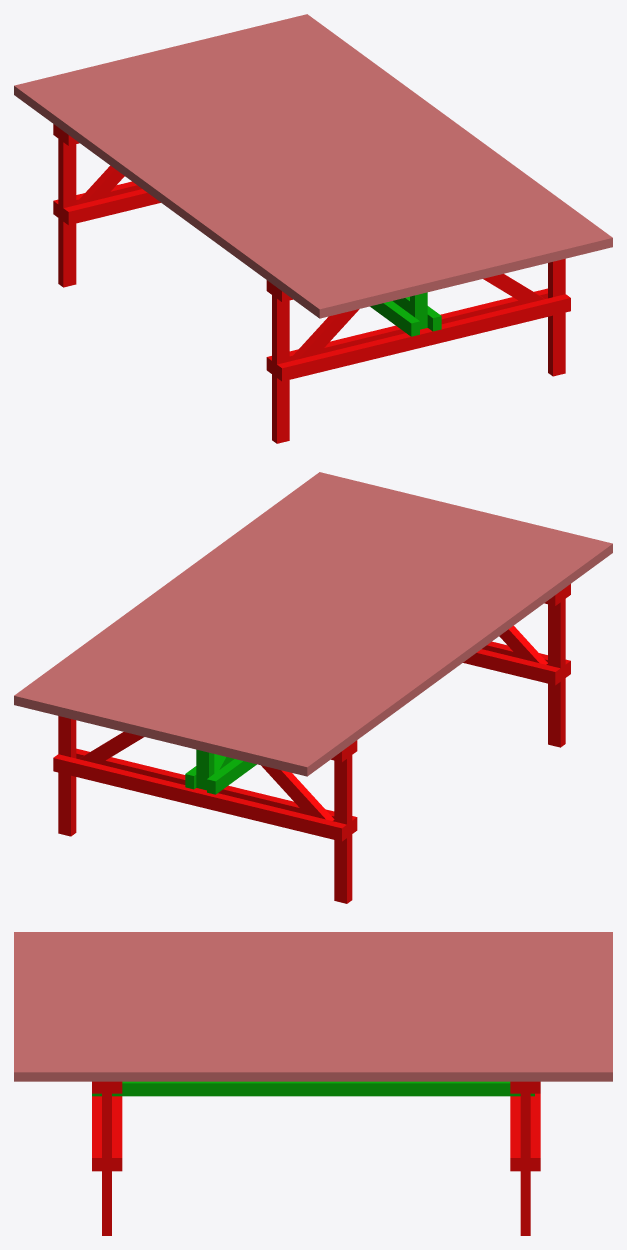
File: result.glb
3 renders of one model, top to bottom at view 1: azimuth 30°, elevation 25°; view 2: azimuth 150°, elevation 25°; view 3: azimuth 270°, elevation 25°, orthographic. The views are drawn at different scales.
Parts seen in each view (by area): view 1: e8572750-5359-4779-a6d4-4a2de2184da2__Box, e2a339a2-f7a9-4d18-b5e1-a1c5d5b01a48__sideH, af6be2a3-6324-4fde-8211-20366a780830__undefined, 2e245fd0-a997-461d-bca7-1c6d890a7b8d__undefined, 4b75fe8f-fd2e-448c-80d8-530bb464fafe__undefined, 0f40e9db-9a0b-4b9f-9652-3429a954e3eb__undefined, 156da3b0-69f3-4ade-8306-8481c7717daf__undefined, a3cc780f-08b8-44d6-9d41-ce897aa38495__undefined, c8f55597-56f8-41e4-8323-b49ed840e3b8__undefined, d8fdd775-603a-4434-b9a7-d123a66e6464__undefined, 4782e9e3-0d08-4813-8aae-0685b6800dc1__undefined, 8936871f-94f4-4f58-a045-1c38f46c4834__undefined (+21 smaller); view 2: e8572750-5359-4779-a6d4-4a2de2184da2__Box, 54b35119-857b-4545-9c44-c68cfb71abc9__undefined, a3cc780f-08b8-44d6-9d41-ce897aa38495__undefined, d8fdd775-603a-4434-b9a7-d123a66e6464__undefined, 8936871f-94f4-4f58-a045-1c38f46c4834__undefined, 4782e9e3-0d08-4813-8aae-0685b6800dc1__undefined, 156da3b0-69f3-4ade-8306-8481c7717daf__undefined, af6be2a3-6324-4fde-8211-20366a780830__undefined, c8f55597-56f8-41e4-8323-b49ed840e3b8__undefined, 4b75fe8f-fd2e-448c-80d8-530bb464fafe__undefined, 2e245fd0-a997-461d-bca7-1c6d890a7b8d__undefined, 0f40e9db-9a0b-4b9f-9652-3429a954e3eb__undefined (+22 smaller); view 3: e60f2abb-4d05-4bd3-ad13-3f93e0276fca__undefined, 28073426-a1f3-4554-aad3-1b65907b5ae1__strutH, e8572750-5359-4779-a6d4-4a2de2184da2__Box, c4001a34-9d0a-414c-a576-8d3703145f38__undefined, fa84d8d6-01a6-4eda-92de-9ebdcceb3303__undefined, d94fb868-c83d-4239-b17b-b80c1bc62af2__undefined, 8936871f-94f4-4f58-a045-1c38f46c4834__undefined, 2e245fd0-a997-461d-bca7-1c6d890a7b8d__undefined, b1905d6b-a18b-4f7e-9b68-5981e3d8fe35__undefined, ec696df1-d170-4bd8-80dc-32758e31eda0__undefined, bbbc9186-947e-47b2-969e-341f7ab87164__undefined, 14e066f5-e3a9-4ad2-9e25-656b2fd372d1__undefined (+18 smaller).
Part boxes in pixels (bbox=[...]): e8572750-5359-4779-a6d4-4a2de2184da2__Box: bbox=[14, 82, 332, 318]; e2a339a2-f7a9-4d18-b5e1-a1c5d5b01a48__sideH: bbox=[277, 294, 570, 381]; af6be2a3-6324-4fde-8211-20366a780830__undefined: bbox=[129, 54, 447, 290]; 2e245fd0-a997-461d-bca7-1c6d890a7b8d__undefined: bbox=[78, 67, 396, 302]; 4b75fe8f-fd2e-448c-80d8-530bb464fafe__undefined: bbox=[116, 57, 434, 293]; 0f40e9db-9a0b-4b9f-9652-3429a954e3eb__undefined: bbox=[167, 45, 485, 281]; 156da3b0-69f3-4ade-8306-8481c7717daf__undefined: bbox=[180, 42, 498, 278]; a3cc780f-08b8-44d6-9d41-ce897aa38495__undefined: bbox=[218, 33, 536, 268]; c8f55597-56f8-41e4-8323-b49ed840e3b8__undefined: bbox=[282, 17, 600, 253]; d8fdd775-603a-4434-b9a7-d123a66e6464__undefined: bbox=[269, 20, 587, 256]; 4782e9e3-0d08-4813-8aae-0685b6800dc1__undefined: bbox=[231, 29, 549, 265]; 8936871f-94f4-4f58-a045-1c38f46c4834__undefined: bbox=[65, 70, 383, 305]; e8572750-5359-4779-a6d4-4a2de2184da2__Box: bbox=[294, 540, 612, 776]; 54b35119-857b-4545-9c44-c68cfb71abc9__undefined: bbox=[53, 754, 346, 841]; a3cc780f-08b8-44d6-9d41-ce897aa38495__undefined: bbox=[90, 490, 408, 726]; d8fdd775-603a-4434-b9a7-d123a66e6464__undefined: bbox=[39, 478, 357, 714]; 8936871f-94f4-4f58-a045-1c38f46c4834__undefined: bbox=[243, 528, 561, 763]; 4782e9e3-0d08-4813-8aae-0685b6800dc1__undefined: bbox=[77, 487, 395, 723]; 156da3b0-69f3-4ade-8306-8481c7717daf__undefined: bbox=[128, 500, 446, 735]; af6be2a3-6324-4fde-8211-20366a780830__undefined: bbox=[179, 512, 497, 748]; c8f55597-56f8-41e4-8323-b49ed840e3b8__undefined: bbox=[26, 475, 344, 711]; 4b75fe8f-fd2e-448c-80d8-530bb464fafe__undefined: bbox=[192, 515, 510, 751]; 2e245fd0-a997-461d-bca7-1c6d890a7b8d__undefined: bbox=[230, 525, 548, 760]; 0f40e9db-9a0b-4b9f-9652-3429a954e3eb__undefined: bbox=[141, 503, 459, 738]; e60f2abb-4d05-4bd3-ad13-3f93e0276fca__undefined: bbox=[14, 1066, 612, 1081]; 28073426-a1f3-4554-aad3-1b65907b5ae1__strutH: bbox=[92, 1081, 534, 1096]; e8572750-5359-4779-a6d4-4a2de2184da2__Box: bbox=[14, 932, 612, 938]; c4001a34-9d0a-414c-a576-8d3703145f38__undefined: bbox=[14, 938, 612, 944]; fa84d8d6-01a6-4eda-92de-9ebdcceb3303__undefined: bbox=[14, 944, 612, 950]; d94fb868-c83d-4239-b17b-b80c1bc62af2__undefined: bbox=[14, 950, 612, 956]; 8936871f-94f4-4f58-a045-1c38f46c4834__undefined: bbox=[14, 956, 612, 962]; 2e245fd0-a997-461d-bca7-1c6d890a7b8d__undefined: bbox=[14, 962, 612, 968]; b1905d6b-a18b-4f7e-9b68-5981e3d8fe35__undefined: bbox=[14, 968, 612, 974]; ec696df1-d170-4bd8-80dc-32758e31eda0__undefined: bbox=[14, 974, 612, 980]; bbbc9186-947e-47b2-969e-341f7ab87164__undefined: bbox=[14, 993, 612, 999]; 14e066f5-e3a9-4ad2-9e25-656b2fd372d1__undefined: bbox=[14, 999, 612, 1005].
Size of the model in its own units: 1219 by 667 by 2200.
